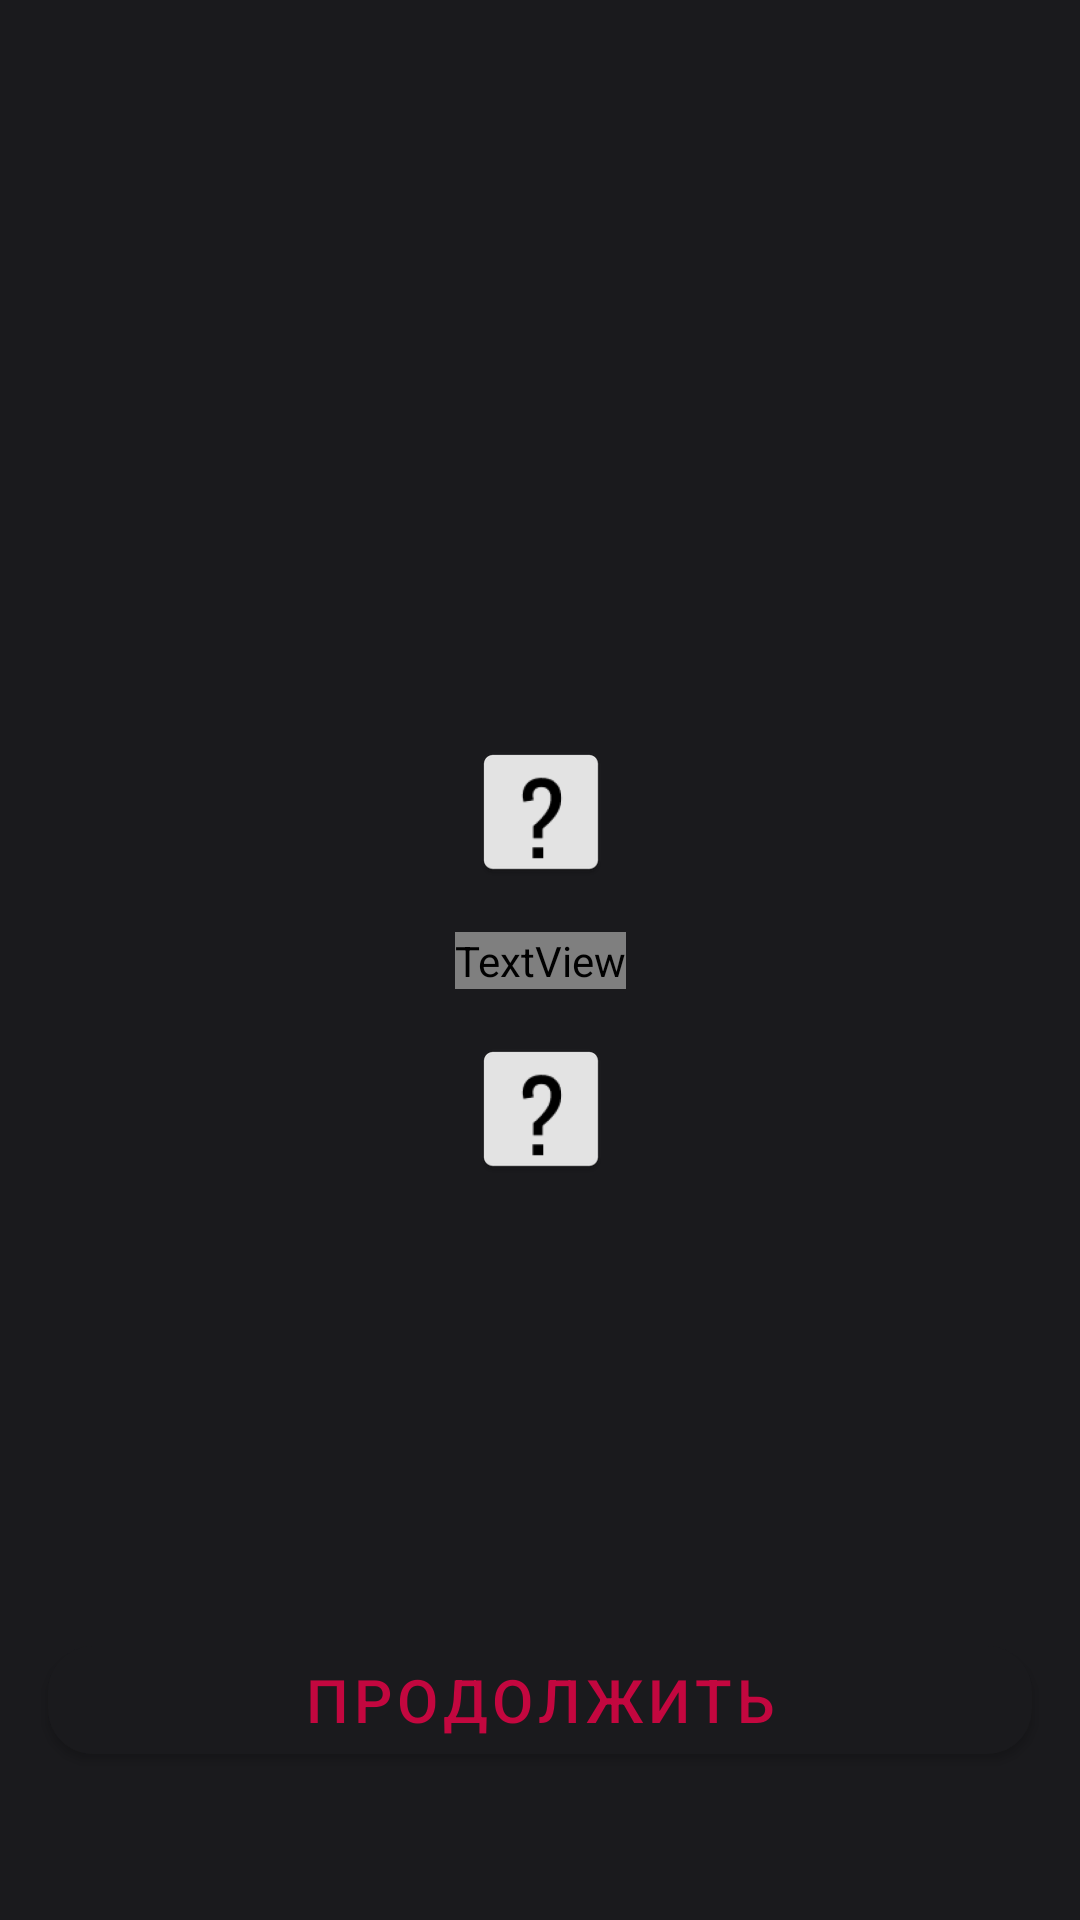

Screen size 1080px x 1920px. Icon name, then its center in pixels as (x,y):
unknown card: (540,811), (540,1108)
